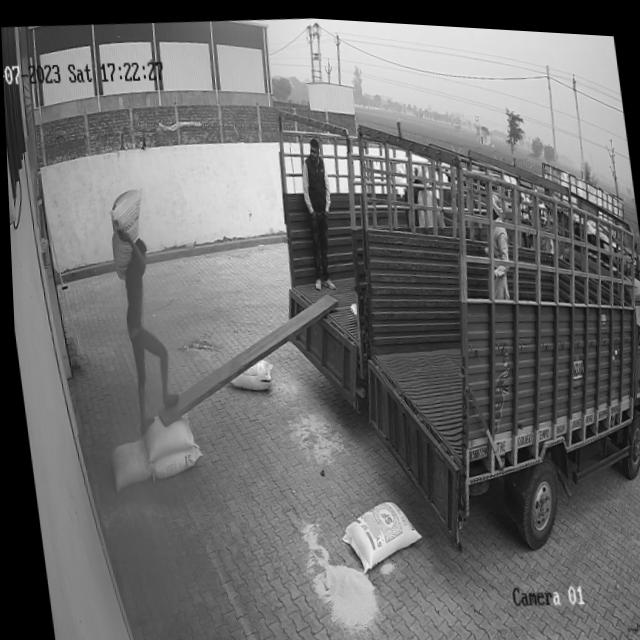sack: (332, 492, 420, 573), (102, 185, 149, 280), (139, 410, 192, 463), (104, 436, 149, 490), (144, 440, 199, 479), (224, 353, 272, 392)
